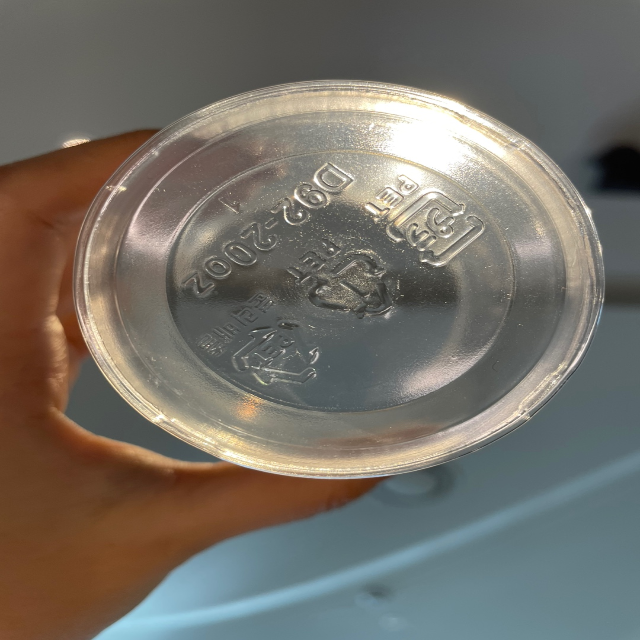pet: (194, 289, 319, 390), (357, 170, 482, 267), (283, 234, 409, 322)
